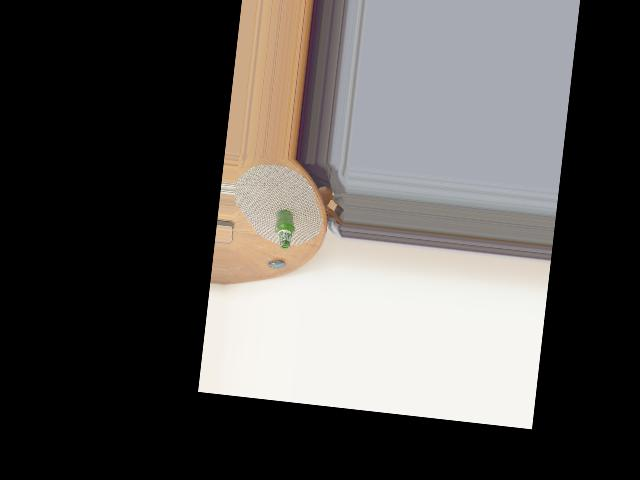beer: (271, 209, 297, 250)
